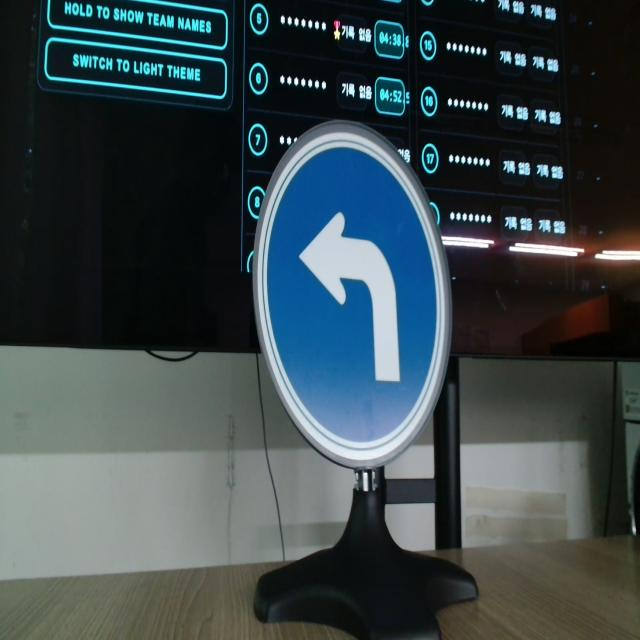left_direction: (244, 85, 487, 508)
